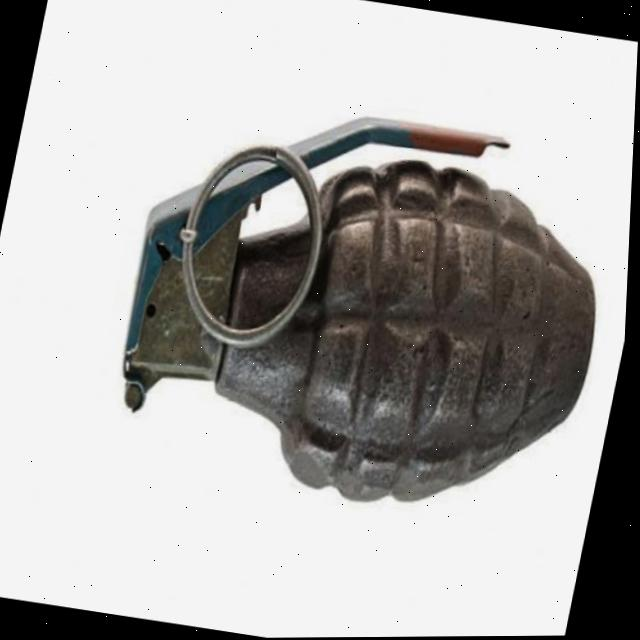grenade: (77, 52, 638, 555)
